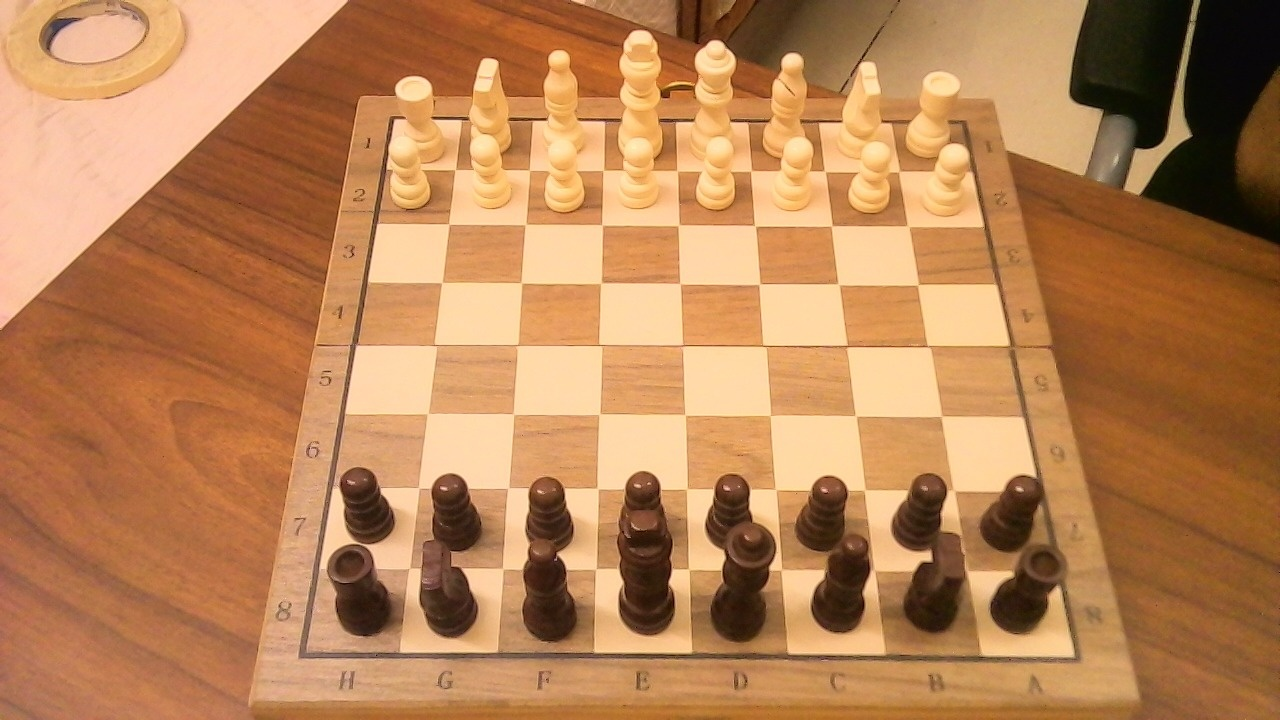B: (757, 42, 818, 165), (534, 38, 595, 159)
K: (609, 18, 672, 164)
N: (828, 48, 891, 165), (460, 48, 520, 157)
P: (915, 135, 978, 221), (763, 127, 823, 216), (460, 124, 518, 214), (840, 133, 901, 217), (687, 127, 744, 216), (610, 127, 667, 215), (535, 130, 592, 216), (382, 128, 438, 211)
Q: (682, 29, 745, 166)
R: (899, 61, 967, 163), (390, 66, 451, 166)
b: (808, 521, 885, 638), (506, 540, 591, 645)
k: (600, 481, 691, 640)
n: (411, 525, 488, 642), (899, 547, 978, 636)
p: (604, 458, 681, 565), (975, 462, 1055, 552), (330, 456, 405, 544), (432, 473, 482, 552), (893, 475, 945, 550), (803, 475, 853, 550), (707, 473, 755, 550), (525, 477, 575, 550)
q: (702, 510, 790, 647)
r: (985, 532, 1076, 639), (321, 533, 402, 639)
